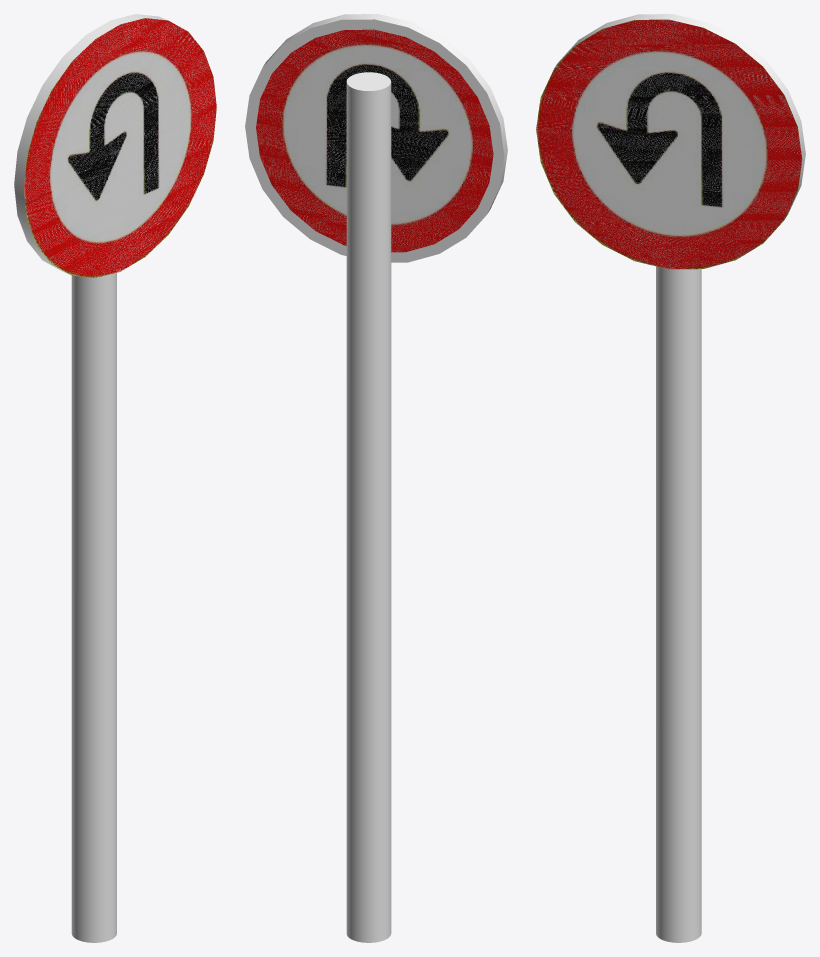
The picture shows the model from 3 angles, left to right: view 1: azimuth 30°, elevation 25°; view 2: azimuth 150°, elevation 25°; view 3: azimuth 330°, elevation 25°; orthographic projection. The views are drawn at different scales.
Parts seen in each view (by area): view 1: turn_back (×3); view 2: turn_back (×4), SketchUp; view 3: turn_back (×3).
Boxes of the visible parts, x1,y1,x2,y2 form: turn_back (×3): (14,14,216,942); turn_back (×4): (245,14,507,942); SketchUp: (346,72,391,90); turn_back (×3): (536,14,805,942).
Bounding box in the file's own units: 23.12 × 8.09 × 87.82.
Materials: 4 (1 with a texture image).
